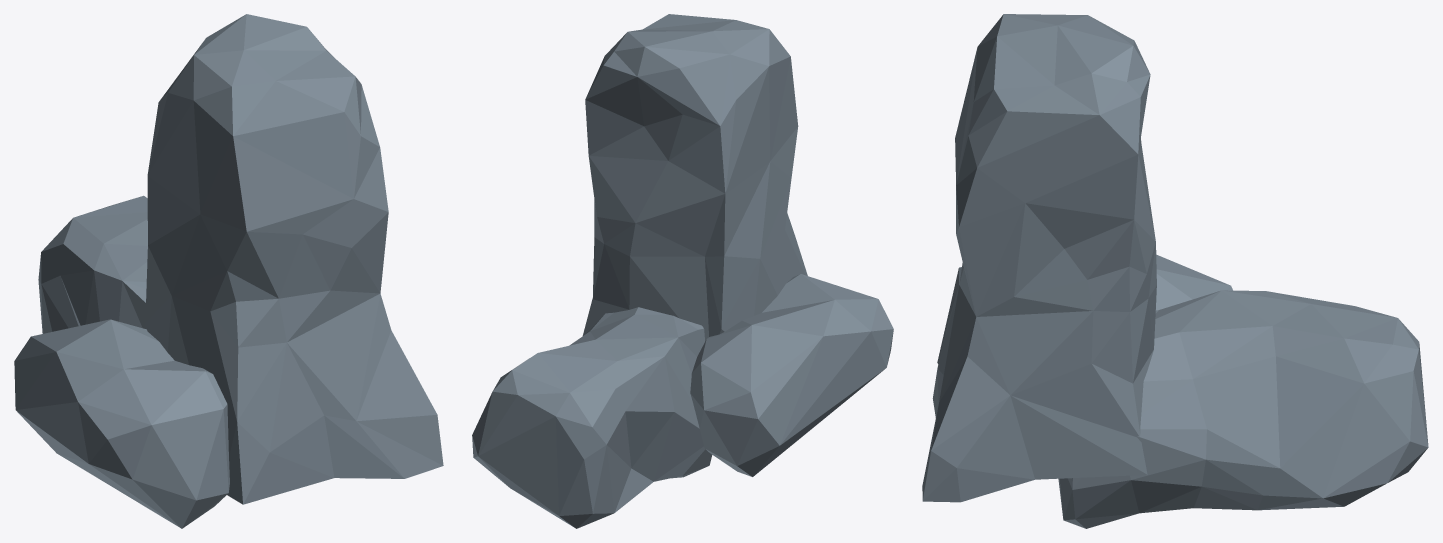
File: mountain.glb
3 views of the same model, side by side, from view 1: azimuth 30°, elevation 25°; view 2: azimuth 150°, elevation 25°; view 3: azimuth 270°, elevation 25° (orthographic). The views are drawn at different scales.
Visible parts, largest first — view 1: BigRock1, BigRock3, BigRock2; view 2: BigRock1, BigRock2, BigRock3; view 3: BigRock1, BigRock2, BigRock3.
Boxes of the visible parts, <box> form: BigRock1: <box>145,14,443,504</box>; BigRock3: <box>14,319,229,528</box>; BigRock2: <box>38,195,147,333</box>; BigRock1: <box>582,14,807,340</box>; BigRock2: <box>472,307,712,528</box>; BigRock3: <box>690,274,893,476</box>; BigRock1: <box>922,14,1156,502</box>; BigRock2: <box>1058,290,1428,528</box>; BigRock3: <box>937,254,1232,363</box>.
Bounding box in the file's own units: 39.16 × 54.33 × 53.9.
